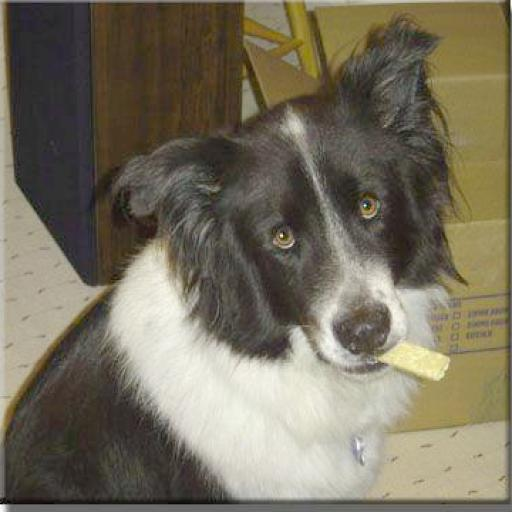dog_face: (122, 21, 464, 389)
